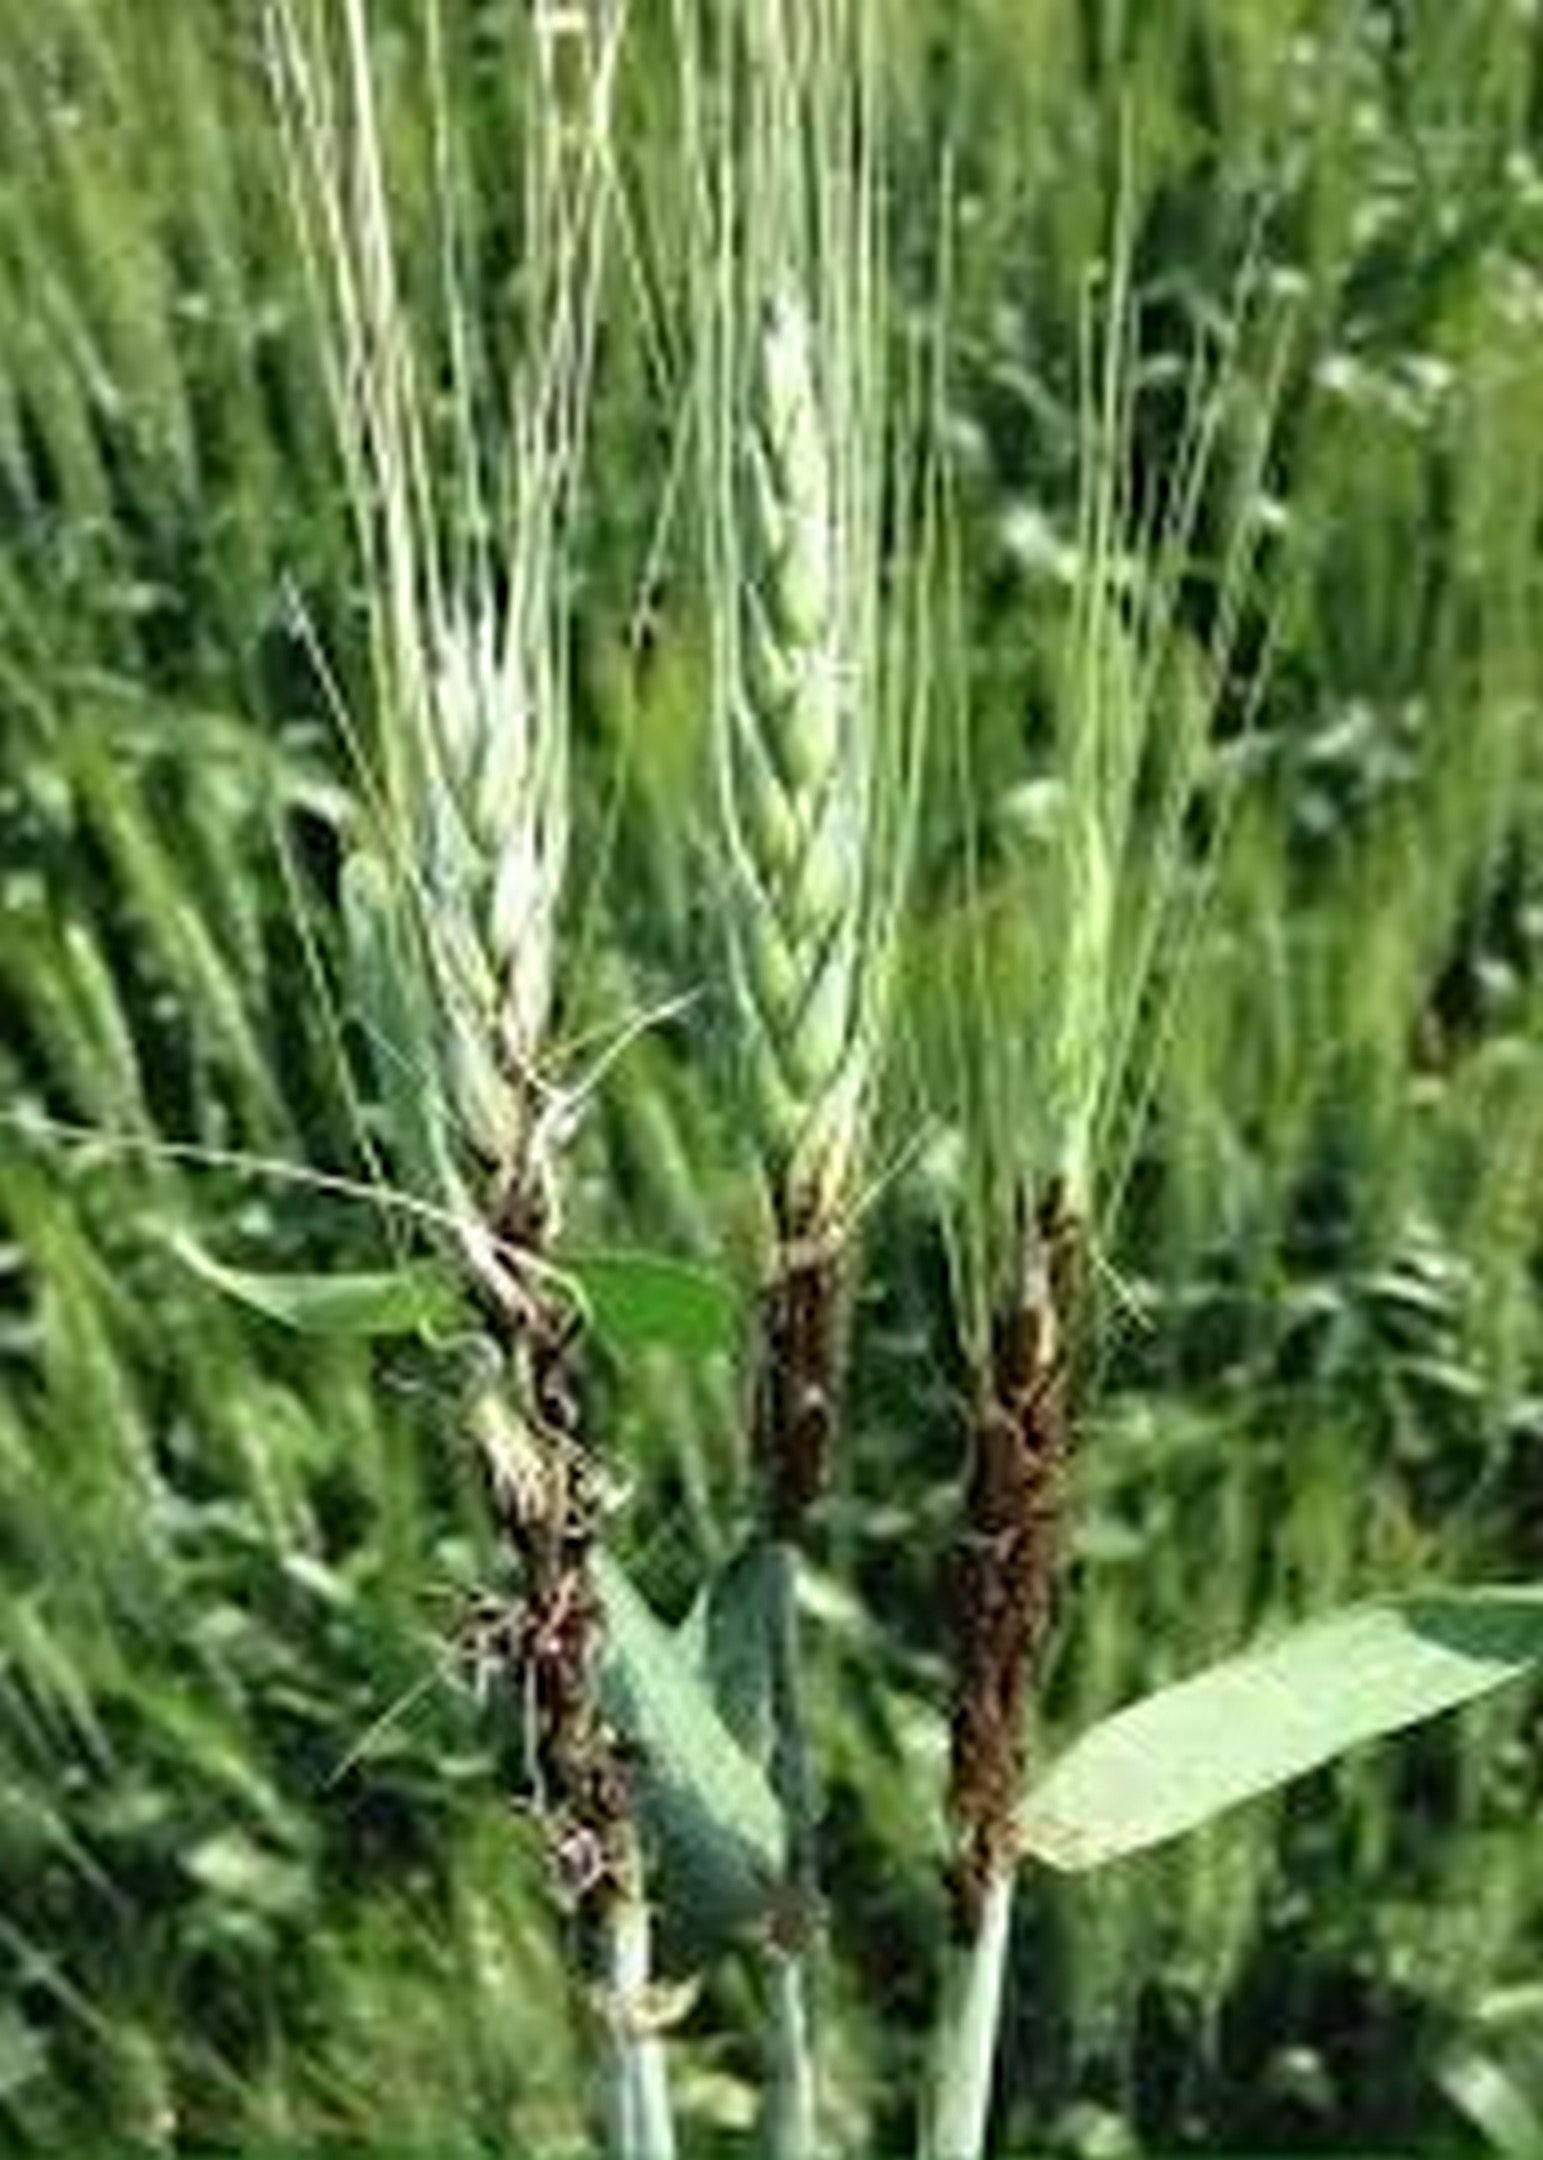Wheat Loose Smut: (444, 1152, 1094, 1931)
